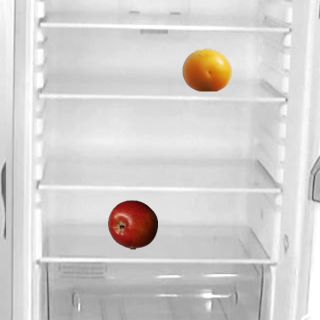Apple Braeburn: (107, 199, 157, 249)
Cherry Wax Yellow: (181, 44, 231, 94)
